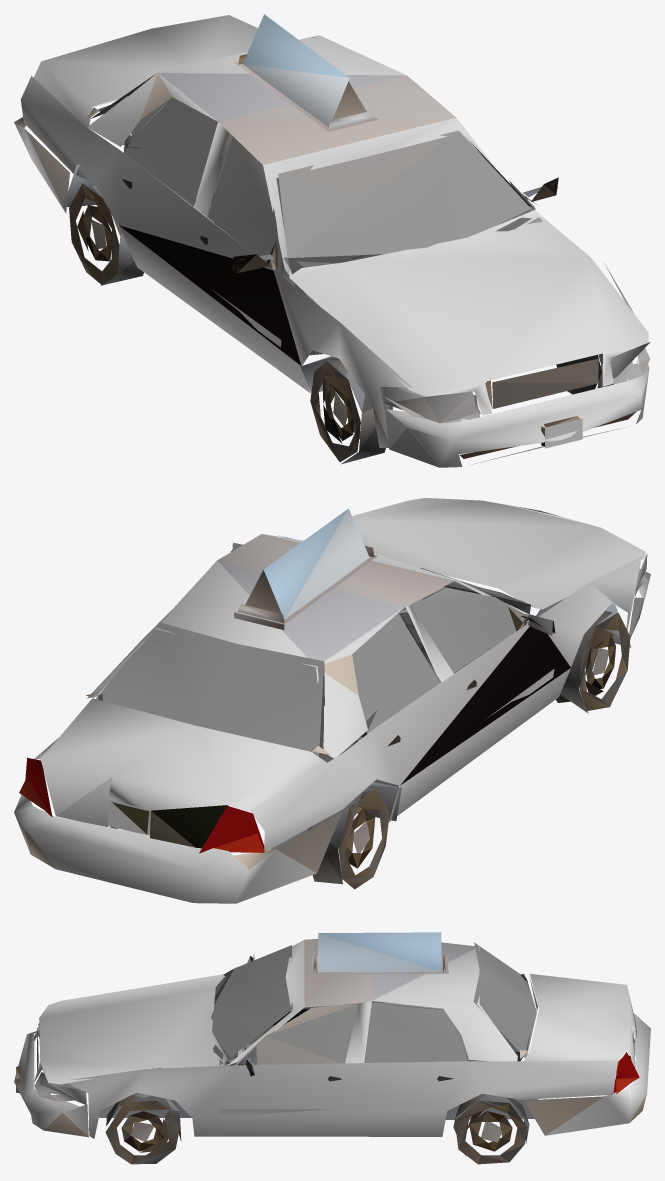
The model's file is car_lod.glb.
The picture shows the model from 3 angles, top to bottom: view 1: azimuth 30°, elevation 25°; view 2: azimuth 150°, elevation 25°; view 3: azimuth 270°, elevation 25°; orthographic projection. The views are drawn at different scales.
Parts seen in each view (by area): view 1: Object_2; view 2: Object_2; view 3: Object_2.
Boxes of the visible parts, x1=… form: Object_2: x1=14, y1=14, x2=650, y2=467; Object_2: x1=14, y1=498, x2=650, y2=903; Object_2: x1=14, y1=932, x2=650, y2=1164.
Bounding box in the file's own units: 2 × 1.53 × 4.7.
